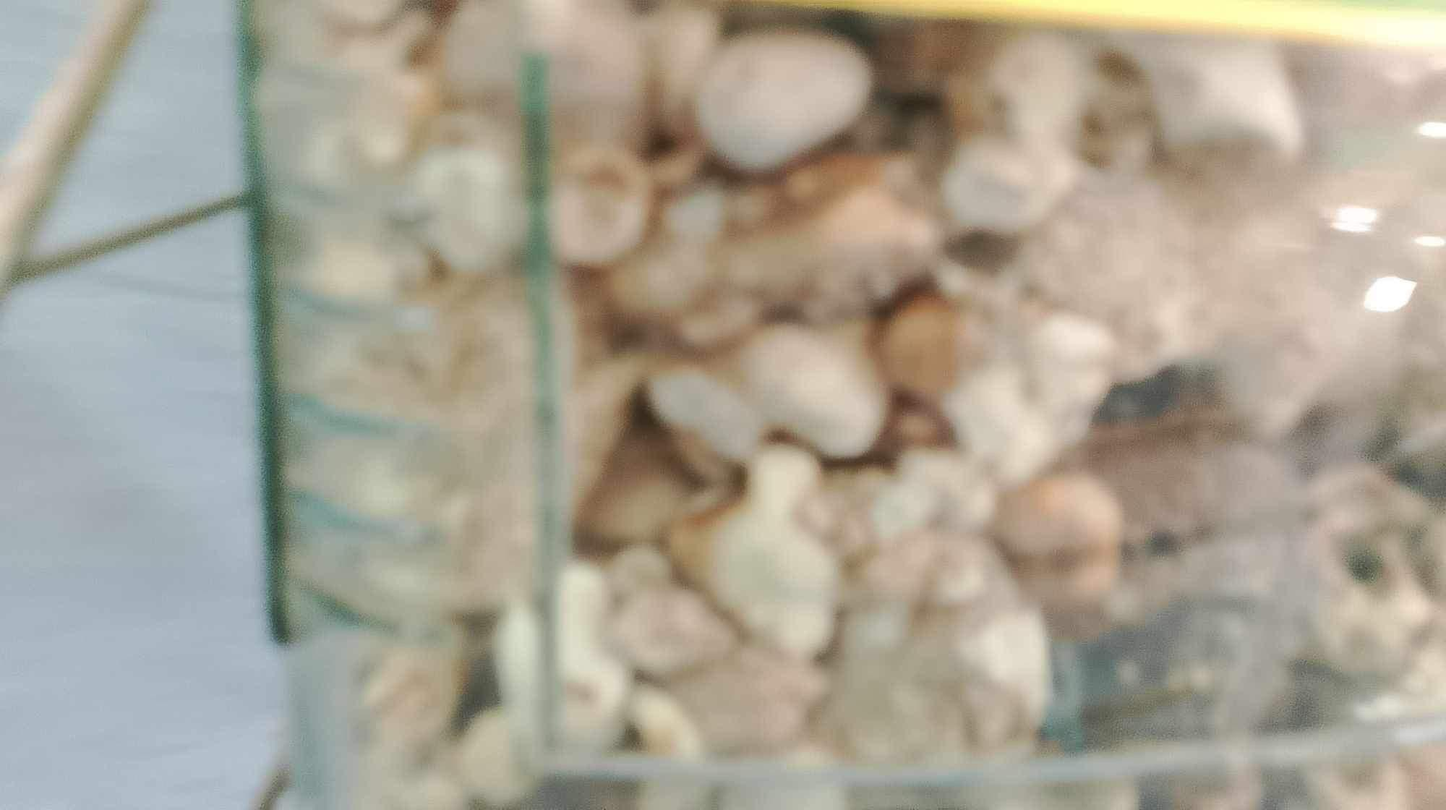General: (247, 4, 1439, 803)
Sharps: (510, 40, 573, 775)
